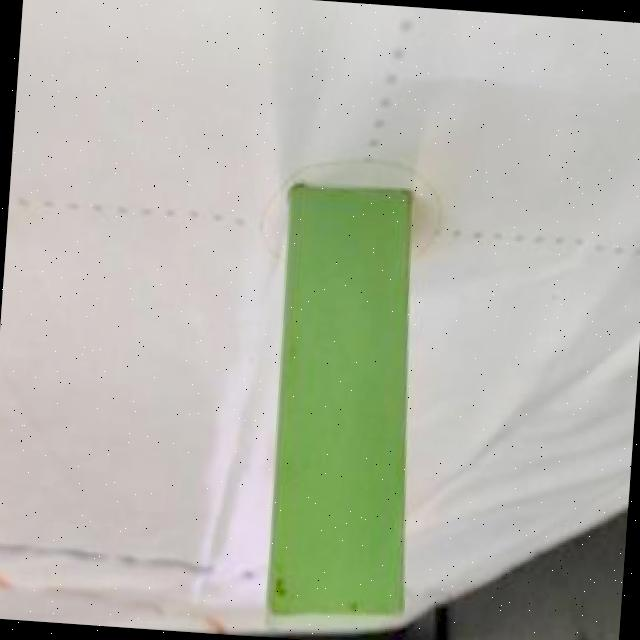greenbox: (253, 180, 434, 640)
